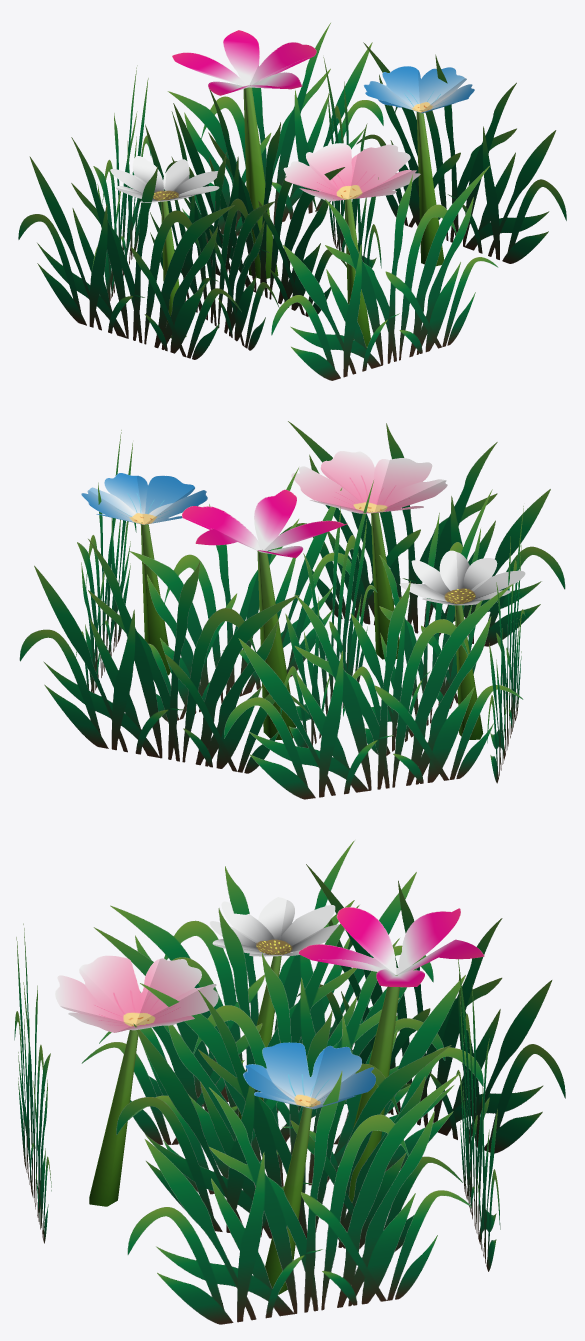
Rendered from SM_BushFlower.fbx.
The picture shows the model from 3 angles, top to bottom: view 1: azimuth 30°, elevation 25°; view 2: azimuth 150°, elevation 25°; view 3: azimuth 270°, elevation 25°; orthographic projection. The views are drawn at different scales.
Visible parts, largest first — view 1: T_Grass_Flower.031, T_Grass_Flower.029, T_Grass_Flower.015, T_Grass_Flower.027, T_Grass_Flower.017, T_Grass_Flower.026, T_Grass_Flower.007, T_Grass_Flower.006, T_Grass_Flower.008, T_Grass_Flower.030, T_Grass_Flower.009, Cylinder.003 (+4 smaller); view 2: T_Grass_Flower.030, T_Grass_Flower.017, T_Grass_Flower.031, T_Grass_Flower.028, T_Grass_Flower.007, T_Grass_Flower.026, T_Grass_Flower.027, T_Grass_Flower.006, T_Grass_Flower.008, T_Grass_Flower.009, T_Grass_Flower.015, T_Grass_Flower.029 (+4 smaller); view 3: T_Grass_Flower.015, T_Grass_Flower.028, T_Grass_Flower.027, T_Grass_Flower.030, T_Grass_Flower.026, T_Grass_Flower.029, T_Grass_Flower.007, T_Grass_Flower.006, T_Grass_Flower.008, T_Grass_Flower.017, T_Grass_Flower.009, T_Grass_Flower.031 (+4 smaller).
Boxes of the visible parts, x1,y1,x2,y2 form: T_Grass_Flower.031: (271, 165, 498, 380); T_Grass_Flower.029: (18, 137, 241, 359); T_Grass_Flower.015: (356, 42, 566, 263); T_Grass_Flower.027: (165, 89, 346, 316); T_Grass_Flower.017: (167, 23, 383, 242); T_Grass_Flower.026: (138, 111, 279, 350); T_Grass_Flower.007: (283, 143, 420, 201); T_Grass_Flower.006: (172, 30, 316, 95); T_Grass_Flower.008: (363, 66, 474, 113); T_Grass_Flower.030: (91, 65, 151, 301); T_Grass_Flower.009: (110, 156, 219, 202); Cylinder.003: (243, 87, 278, 278); T_Grass_Flower.030: (224, 581, 523, 799); T_Grass_Flower.017: (19, 539, 308, 773); T_Grass_Flower.031: (280, 421, 565, 646); T_Grass_Flower.028: (129, 467, 353, 721); T_Grass_Flower.007: (291, 451, 447, 513); T_Grass_Flower.026: (343, 489, 497, 755); T_Grass_Flower.027: (280, 480, 377, 747); T_Grass_Flower.006: (182, 489, 347, 557); T_Grass_Flower.008: (81, 473, 207, 524); T_Grass_Flower.009: (399, 550, 525, 605); T_Grass_Flower.015: (75, 430, 136, 692); T_Grass_Flower.029: (487, 506, 525, 783); T_Grass_Flower.015: (127, 1071, 471, 1324); T_Grass_Flower.028: (116, 990, 462, 1251); T_Grass_Flower.027: (129, 938, 483, 1194); T_Grass_Flower.030: (297, 864, 565, 1153); T_Grass_Flower.026: (81, 905, 445, 1144); T_Grass_Flower.029: (99, 840, 433, 1106); T_Grass_Flower.007: (55, 955, 218, 1032); T_Grass_Flower.006: (298, 907, 484, 987); T_Grass_Flower.008: (243, 1042, 375, 1109); T_Grass_Flower.017: (455, 959, 500, 1271); T_Grass_Flower.009: (209, 897, 345, 956); T_Grass_Flower.031: (14, 923, 51, 1243).
Bounding box in the file's own units: 0.2522 × 0.1116 × 0.2159.
Materials: 2 (2 with a texture image).
